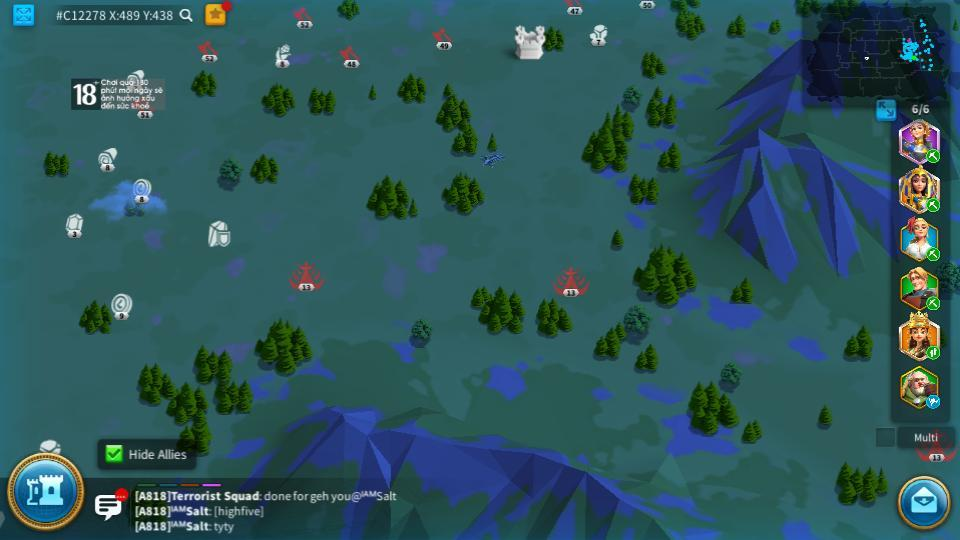gem-z-out: (63, 213, 83, 236)
march_idle: (925, 396, 942, 408)
march_marching: (925, 197, 941, 212), (925, 347, 942, 359), (925, 297, 942, 308), (925, 151, 941, 162)
